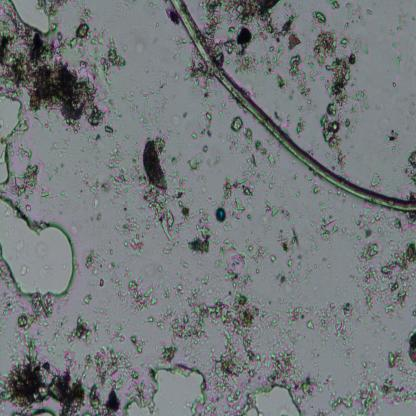Air bubble: (0, 195, 72, 297), (126, 364, 205, 416), (234, 383, 302, 416), (0, 92, 23, 183), (10, 0, 51, 36)
Background material: (160, 296, 321, 406), (0, 0, 127, 135), (199, 0, 303, 81), (126, 136, 187, 248), (0, 335, 85, 414), (358, 212, 416, 321), (325, 346, 416, 414), (320, 31, 369, 147), (285, 296, 359, 351), (86, 341, 135, 415), (264, 200, 306, 286), (211, 242, 267, 305), (91, 144, 146, 201), (224, 117, 276, 169), (215, 171, 255, 232), (132, 81, 173, 137), (282, 51, 319, 112), (118, 273, 160, 326), (186, 67, 216, 137), (15, 291, 56, 337), (185, 207, 214, 255), (114, 215, 146, 256), (86, 248, 118, 289), (4, 168, 37, 206), (68, 312, 100, 350), (331, 1, 374, 28), (308, 205, 337, 244), (292, 166, 320, 199), (168, 272, 212, 291), (42, 163, 64, 201), (258, 161, 285, 191), (391, 10, 403, 71), (305, 250, 335, 274), (157, 249, 188, 271), (380, 123, 400, 156), (50, 133, 74, 156), (310, 9, 328, 36), (184, 151, 206, 173), (404, 329, 416, 366), (404, 152, 416, 189), (131, 31, 149, 55), (85, 207, 106, 226), (130, 334, 146, 355), (369, 172, 384, 190), (77, 293, 94, 308), (294, 113, 307, 132), (148, 1, 164, 16), (20, 262, 30, 277), (388, 81, 399, 94)
Microfibre: (171, 0, 416, 212)
